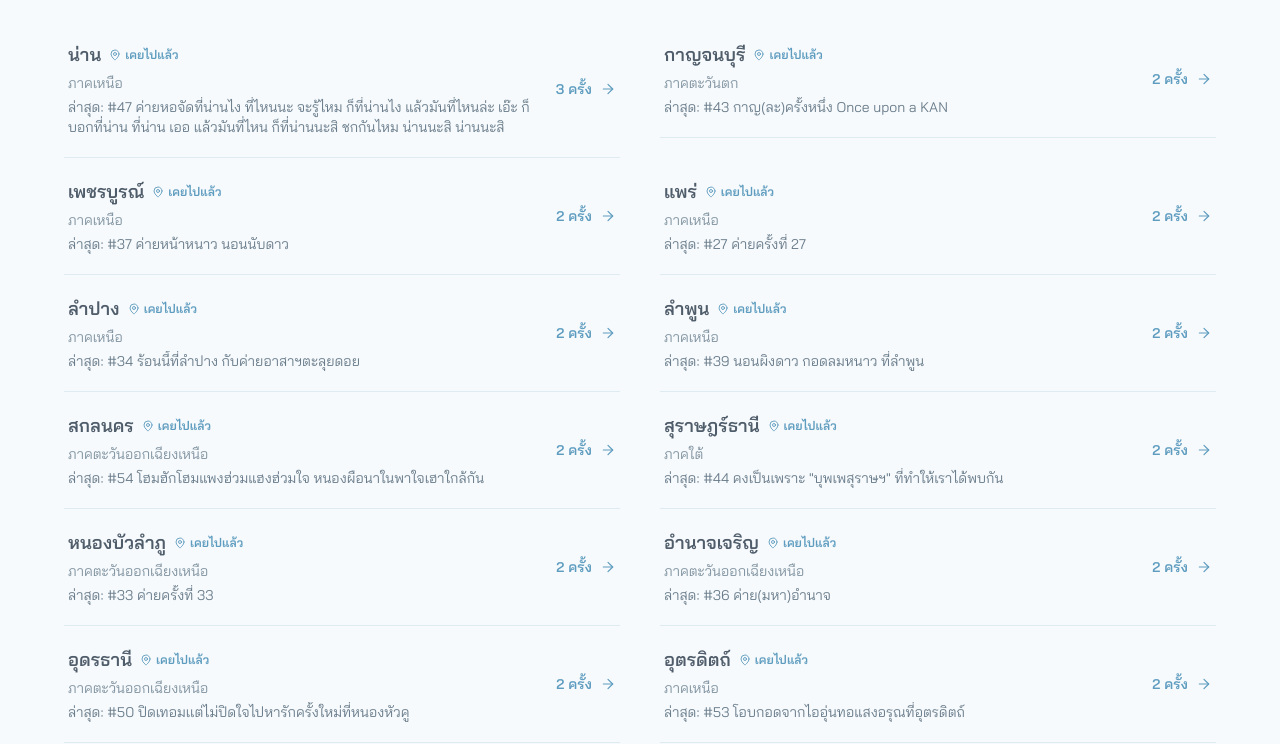
Scenario: MapPage › renders immersive stage and selects a province from the explorer
(page scrolled)
What coordinates should you click on to do the following:
click the button "สกลนคร"
I would click on:
 (101, 426)
Its box is [64,392,620,509].
(page scrolled)
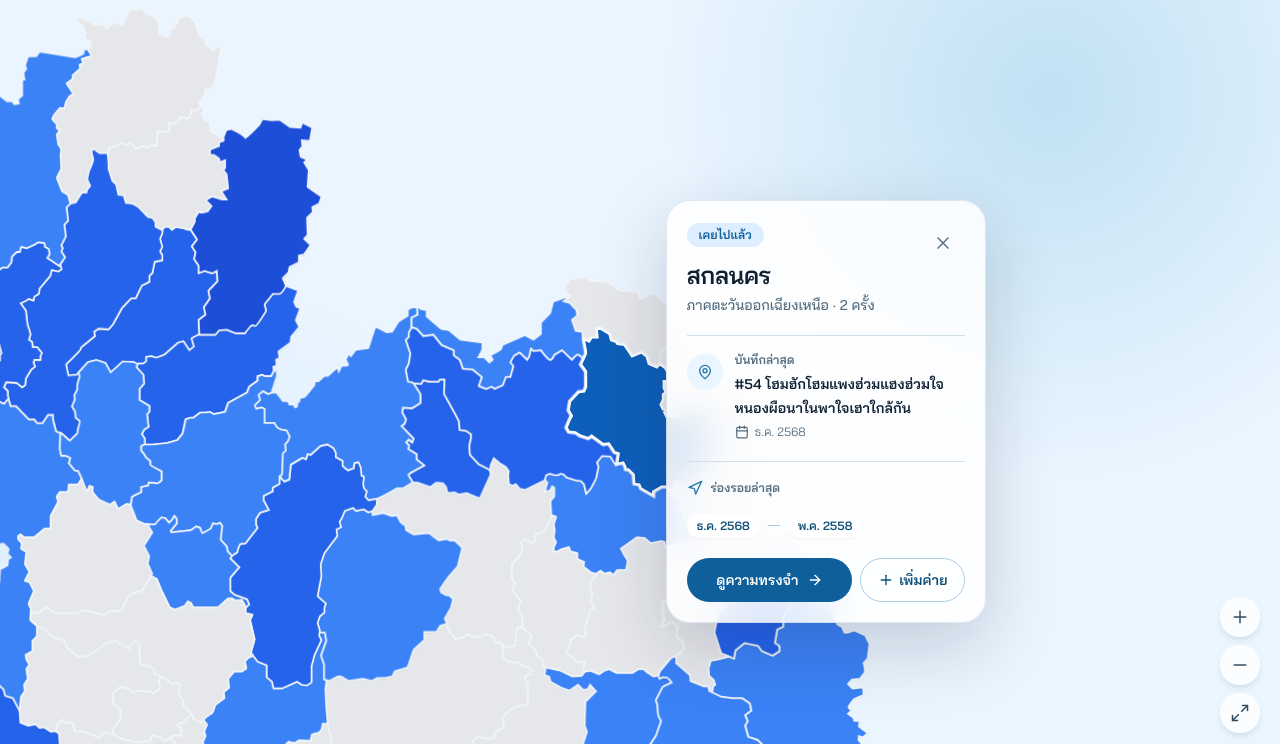
Now the heading "สกลนคร" is shown, box [687,260,771,290]
